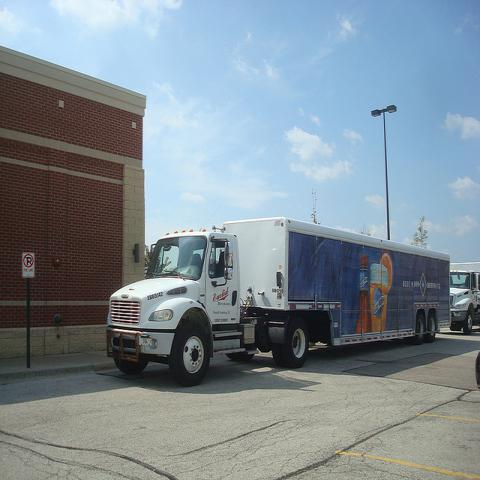truck: (105, 218, 451, 388), (450, 262, 479, 337)
